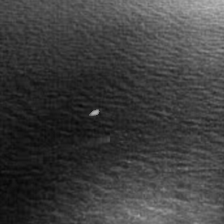Target: (88, 109, 100, 116)
